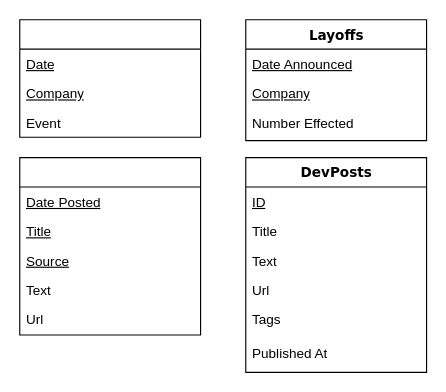
This 446x392 diagram has some shape labels left out. Each missing label, with the box of its shape:
AI Events: (19, 19, 201, 137)
Articles: (19, 157, 201, 335)
